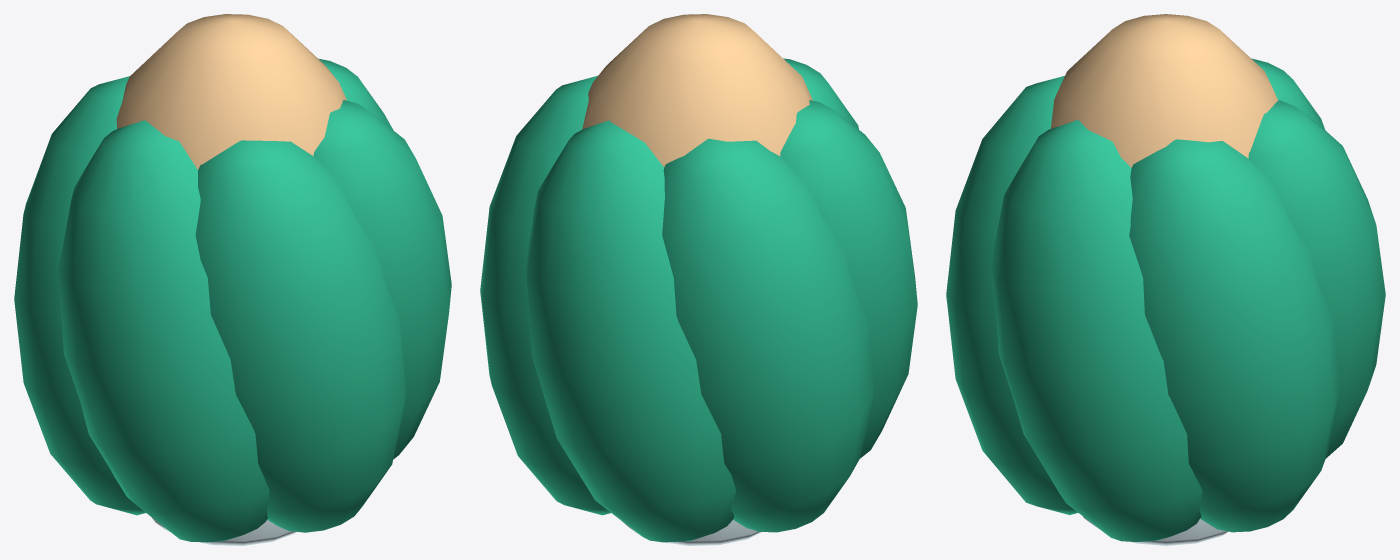
The model's file is cabbage.glb.
The picture shows the model from 3 angles, left to right: view 1: azimuth 30°, elevation 25°; view 2: azimuth 150°, elevation 25°; view 3: azimuth 270°, elevation 25°; orthographic projection.
Parts seen in each view (by area): view 1: cabbage; view 2: cabbage; view 3: cabbage.
Part boxes in pixels (box(x1,y1,x2,y2)): cabbage: box(14, 14, 451, 545); cabbage: box(480, 14, 917, 545); cabbage: box(946, 14, 1385, 545).
Size of the model in its own units: 0.7604 by 1 by 0.8101.
1 material, 1 textured.
